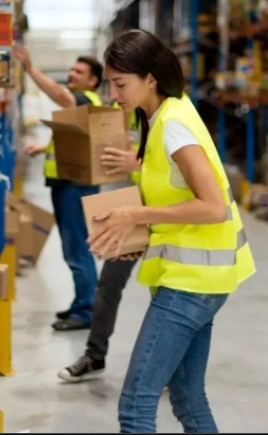worker: (108, 31, 257, 294)
